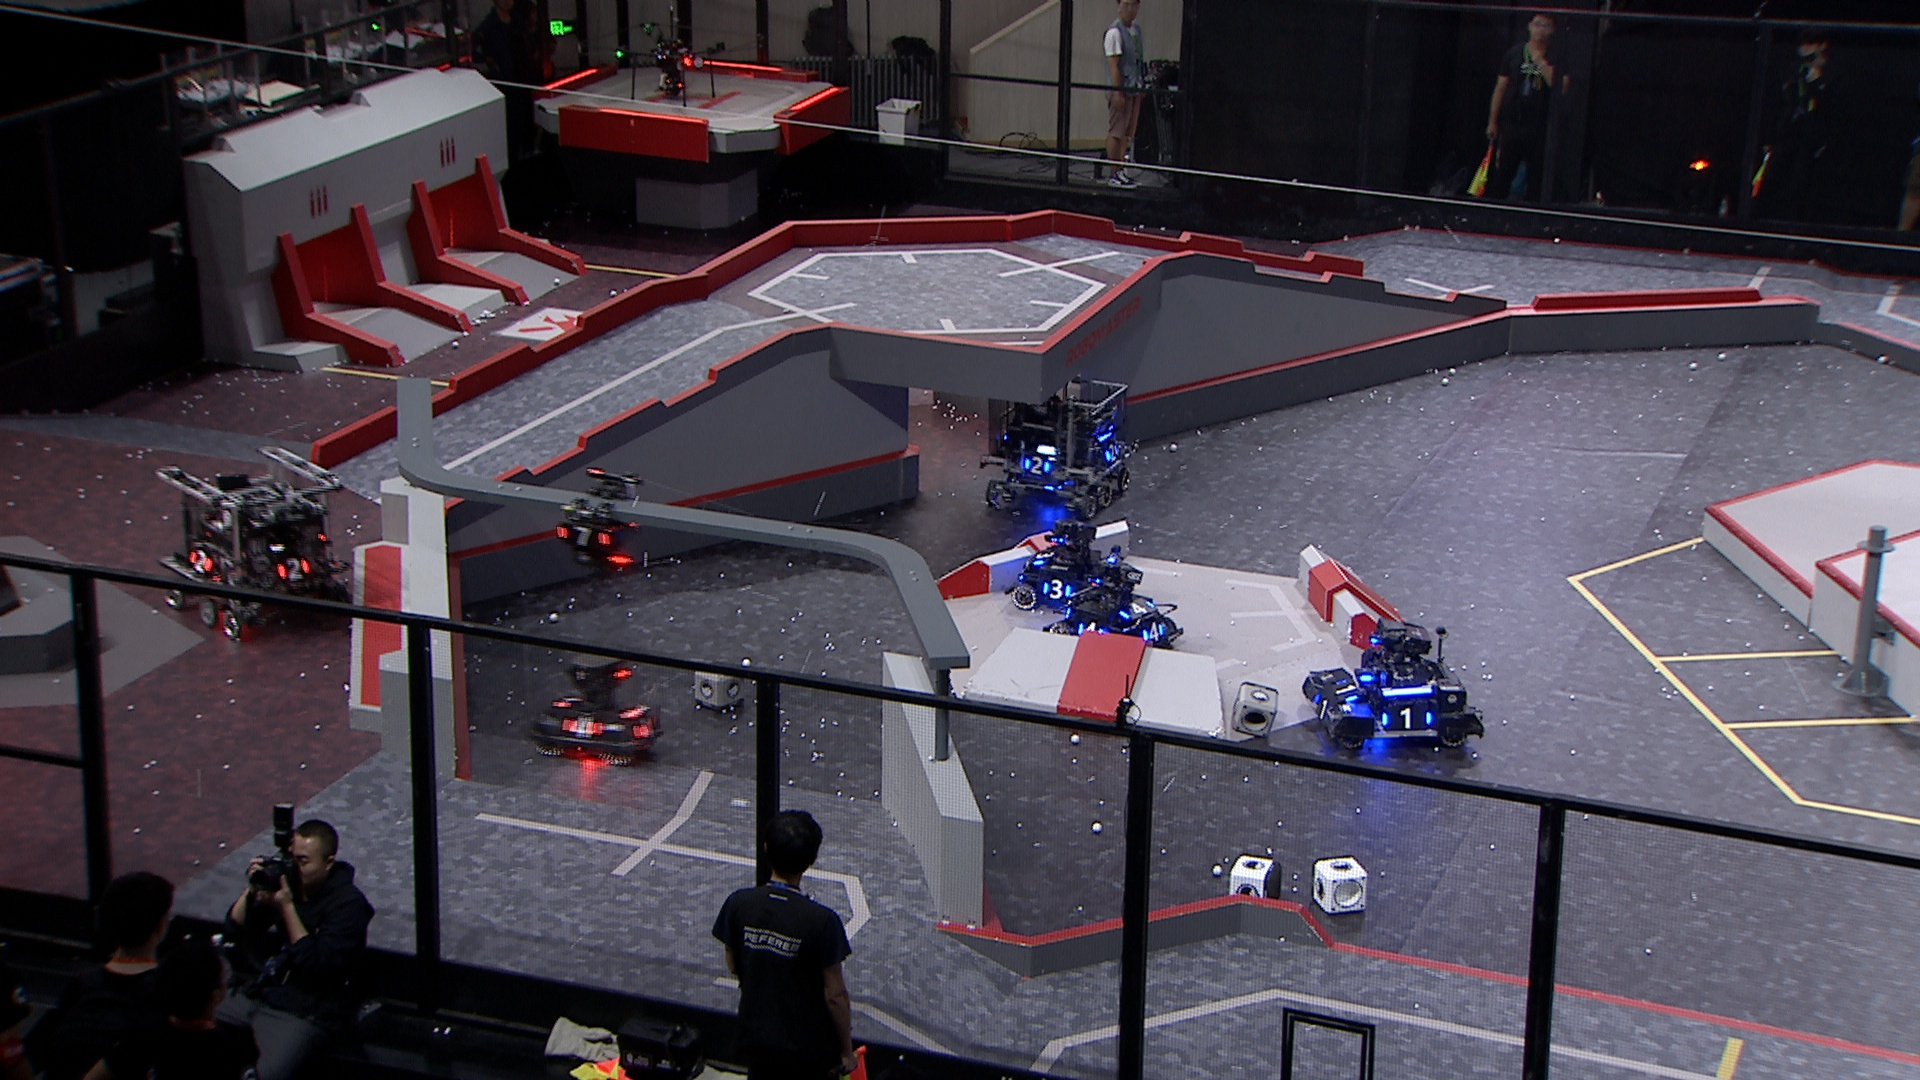armor: (553, 520, 613, 553), (1382, 704, 1433, 732), (562, 712, 605, 742), (182, 547, 218, 580), (276, 555, 313, 584), (632, 709, 659, 745), (1331, 675, 1362, 704), (1307, 692, 1335, 725), (1120, 593, 1155, 618), (1040, 579, 1076, 603), (1077, 618, 1106, 645), (1139, 618, 1168, 644), (553, 688, 584, 711), (1100, 439, 1122, 469), (1030, 543, 1054, 570), (1025, 454, 1051, 476)
car: (152, 450, 353, 642), (1299, 616, 1485, 752), (982, 378, 1135, 520), (524, 647, 666, 769), (1038, 559, 1182, 654), (1007, 513, 1131, 612)
watcher: (551, 463, 646, 575)
